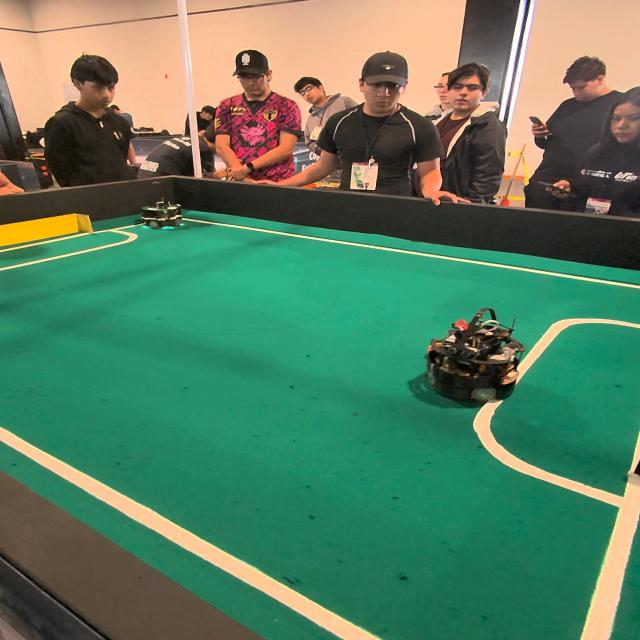Robot: (419, 306, 529, 412), (137, 176, 188, 239)
